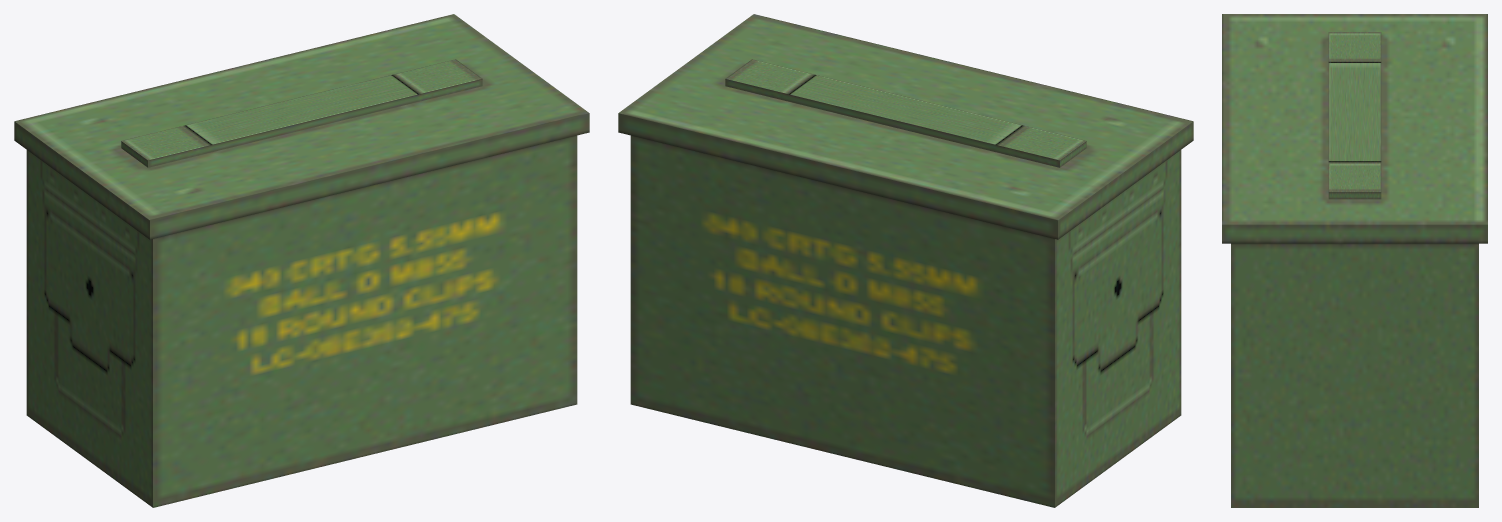
Rendered from ammocan.fbx.
3 renders of one model, left to right at view 1: azimuth 30°, elevation 25°; view 2: azimuth 150°, elevation 25°; view 3: azimuth 270°, elevation 25°, orthographic.
Parts seen in each view (by area): view 1: Cube; view 2: Cube; view 3: Cube.
Part boxes in pixels (x1,y1,x2,y2): Cube: (14,14,589,507); Cube: (618,14,1193,507); Cube: (1222,14,1487,507).
Bounding box in the file's own units: 0.2875 × 0.1874 × 0.1534.
